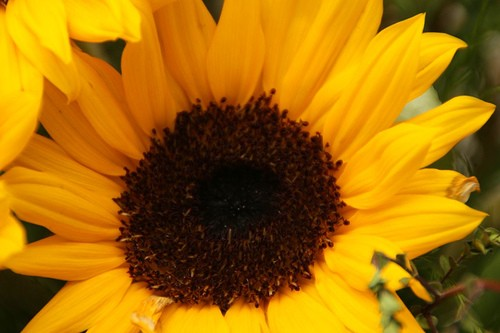flower: (0, 1, 493, 333)
